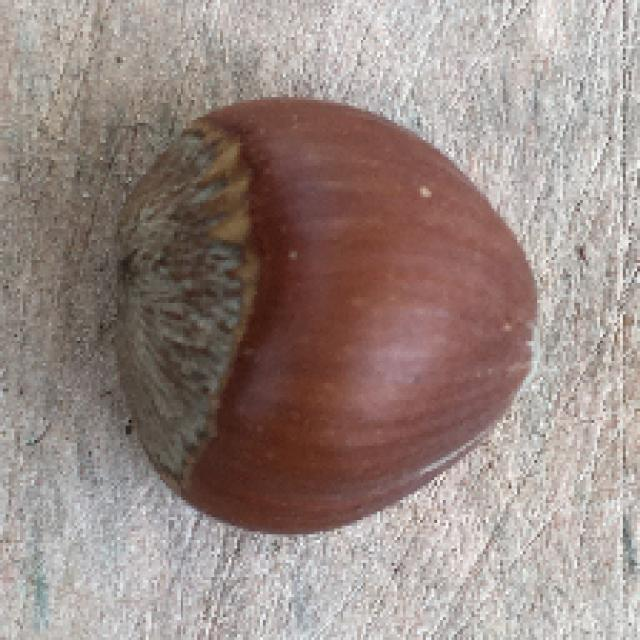DamagedHazelnut: (115, 95, 535, 537)
